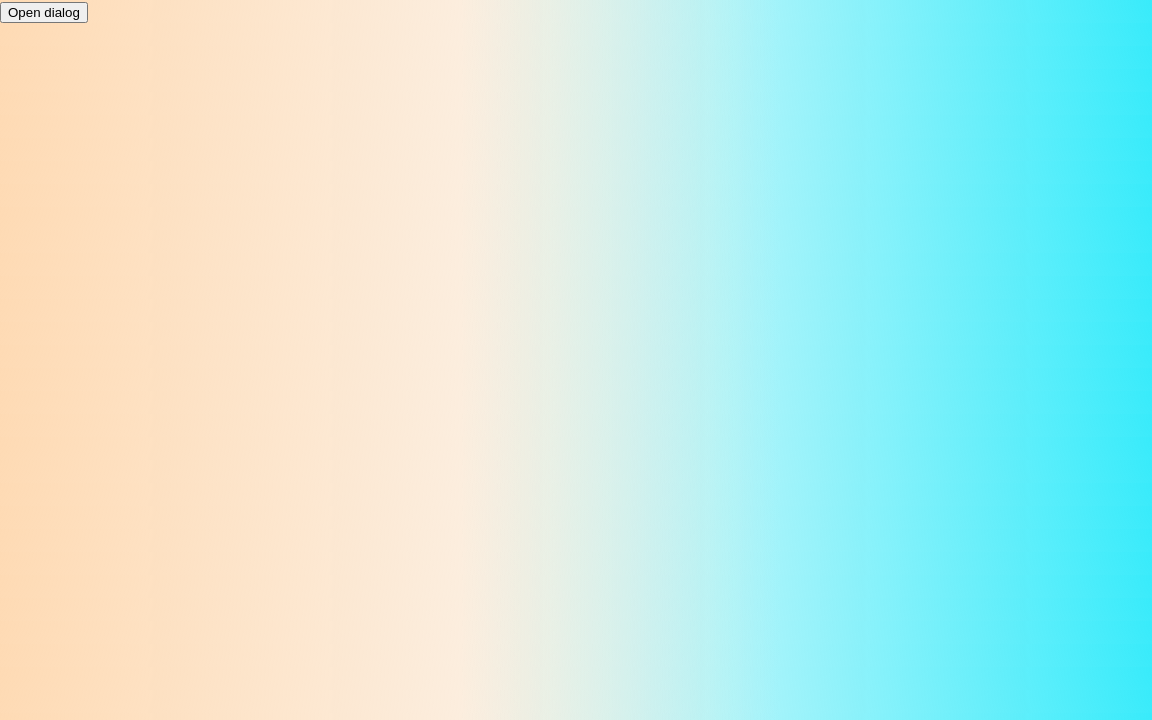
Dialog › opens and closes through trigger and close button
Click the button "Open dialog" at x=44, y=12, box [0, 2, 88, 23]
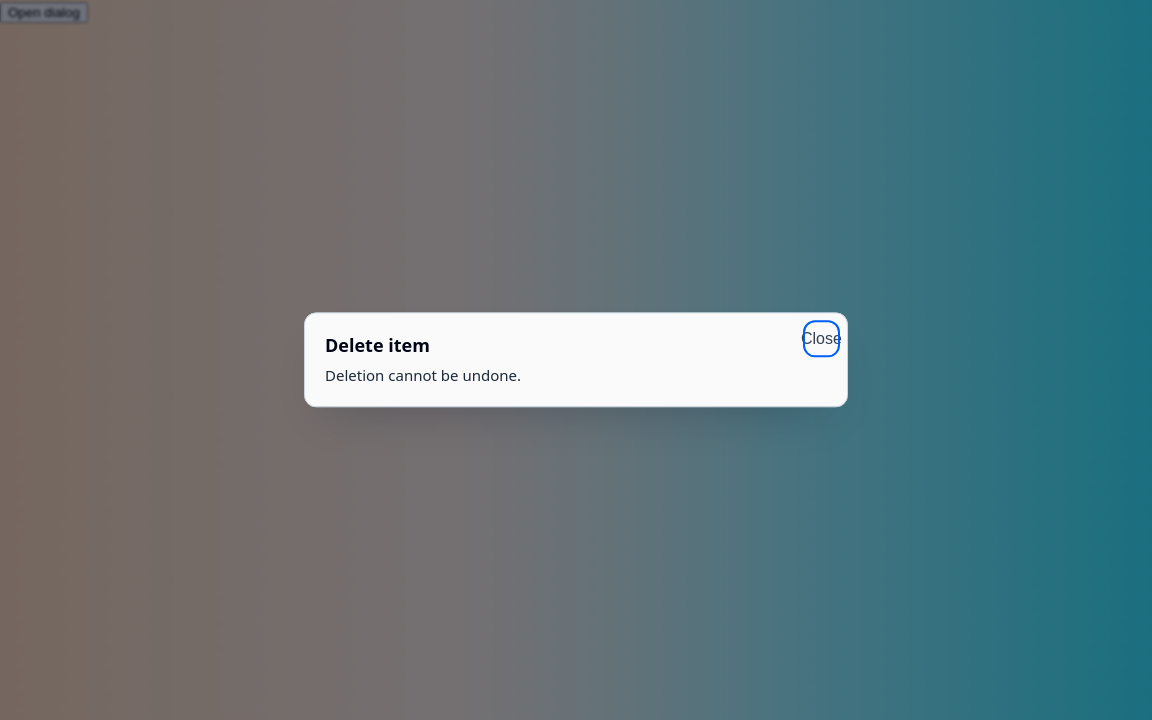
Check: the dialog is shown, box [304, 312, 848, 408]
Click the button with aria-label "Close dialog" at x=821, y=339, box [807, 324, 836, 353]
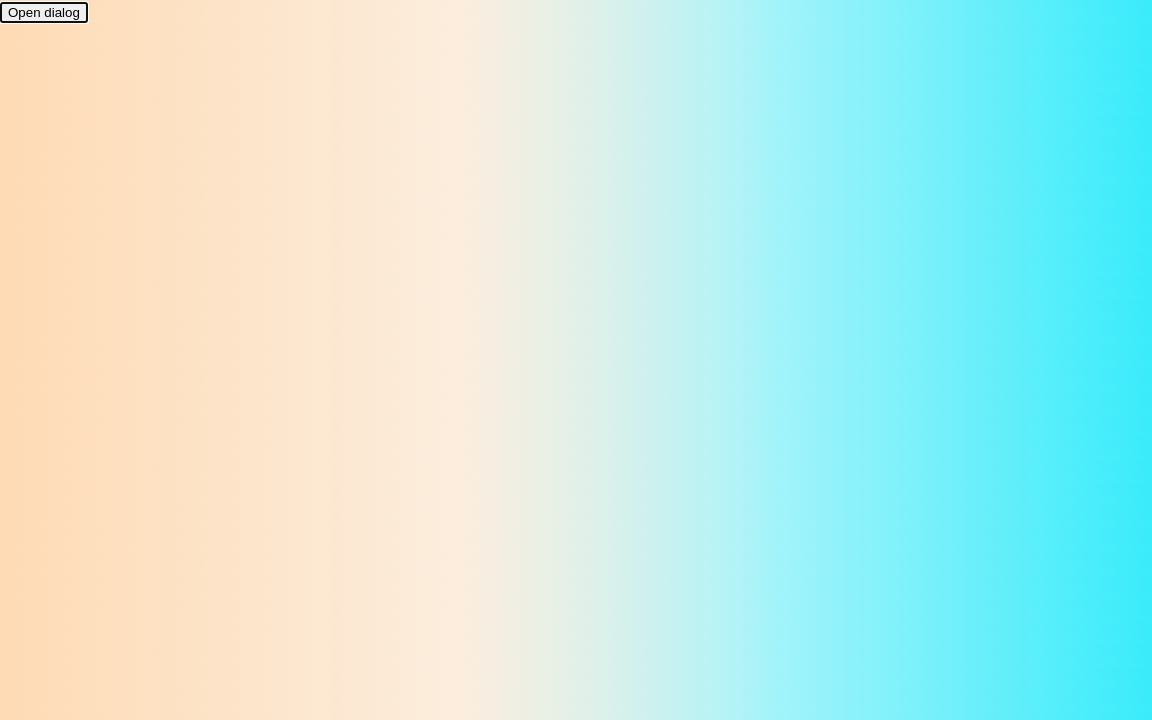
Check: the dialog is gone
